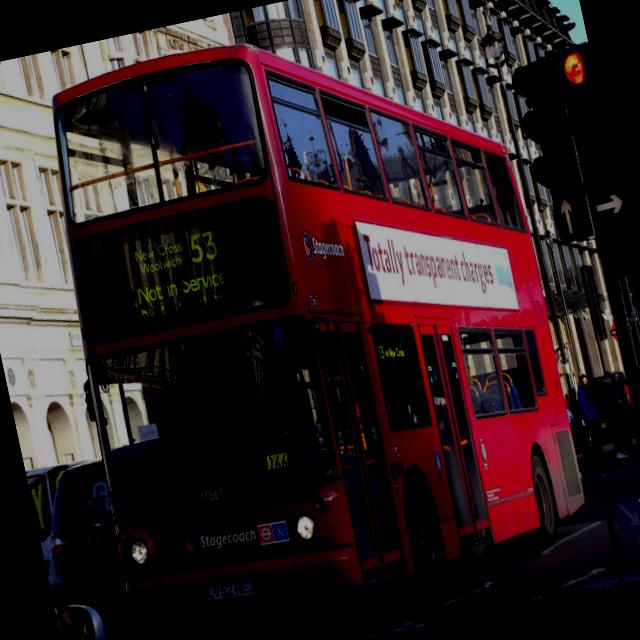Vehicle: (16, 0, 600, 640), (31, 454, 138, 631), (52, 581, 168, 640), (584, 373, 616, 445)
